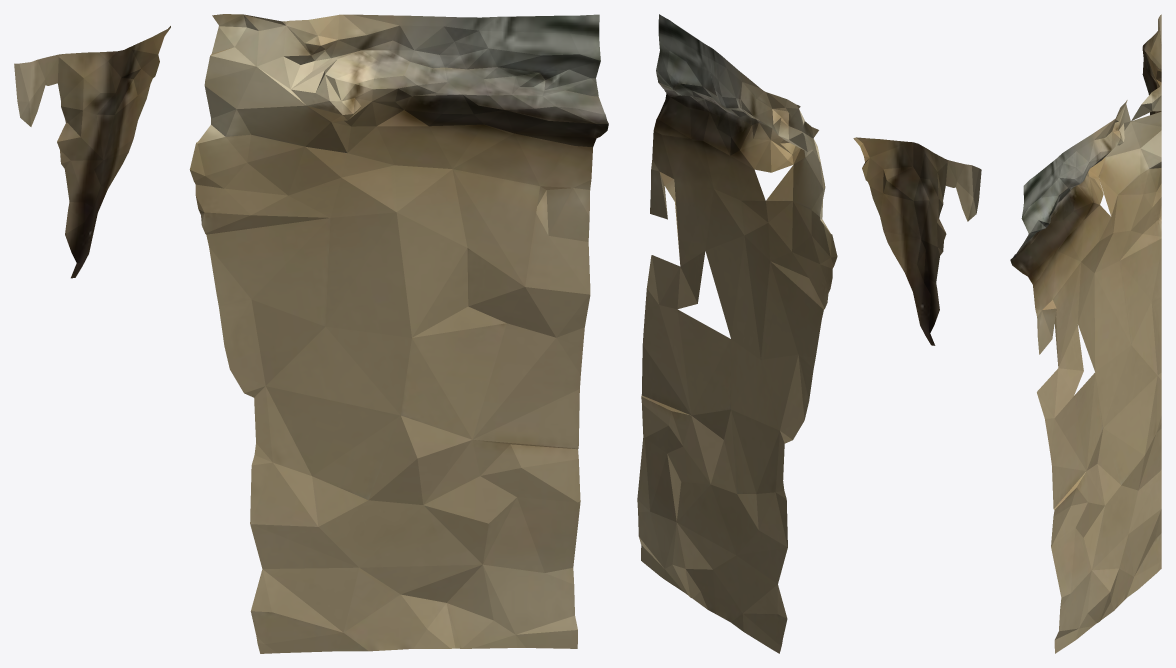
3 renders of one model, left to right at view 1: azimuth 30°, elevation 25°; view 2: azimuth 150°, elevation 25°; view 3: azimuth 270°, elevation 25°, orthographic. The views are drawn at different scales.
Size of the model in its own units: 1.32 by 1.67 by 0.4917.
2 materials, 2 textured.
